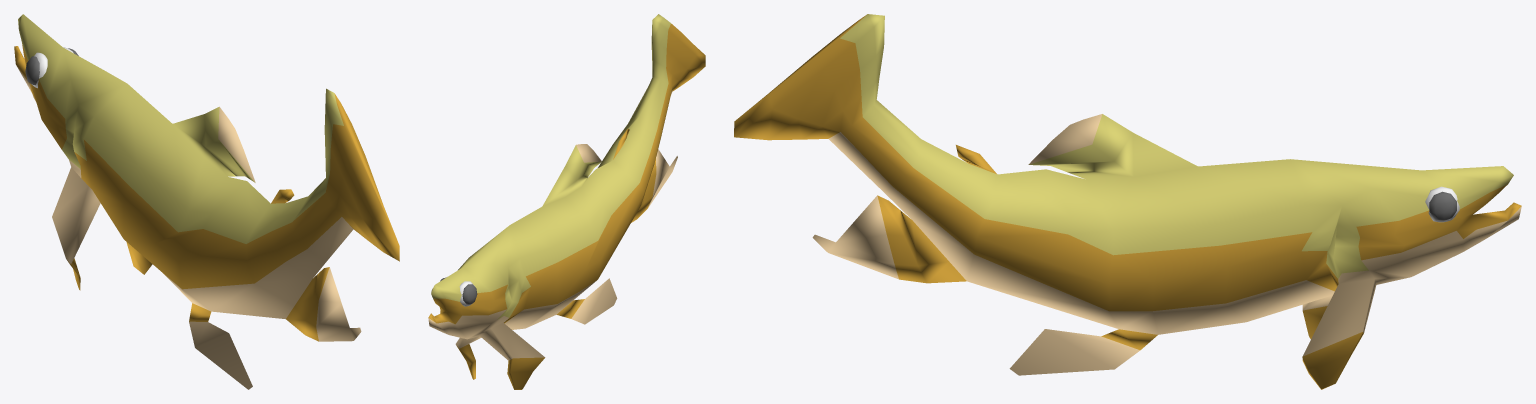
The model's file is 0HCLwTdxvz5.glb.
3 views of the same model, side by side, from view 1: azimuth 30°, elevation 25°; view 2: azimuth 150°, elevation 25°; view 3: azimuth 270°, elevation 25° (orthographic). The views are drawn at different scales.
Visible parts, largest first — view 1: Polygon, e; view 2: Polygon, e; view 3: Polygon, e.
Part boxes in pixels (x1,y1,x2,y2): Polygon: (14,14,399,389); e: (25,48,78,85); Polygon: (428,14,705,389); e: (440,277,477,304); Polygon: (734,14,1521,389); e: (1429,191,1456,220).
Size of the model in its own units: 0.329 by 1 by 1.98.
